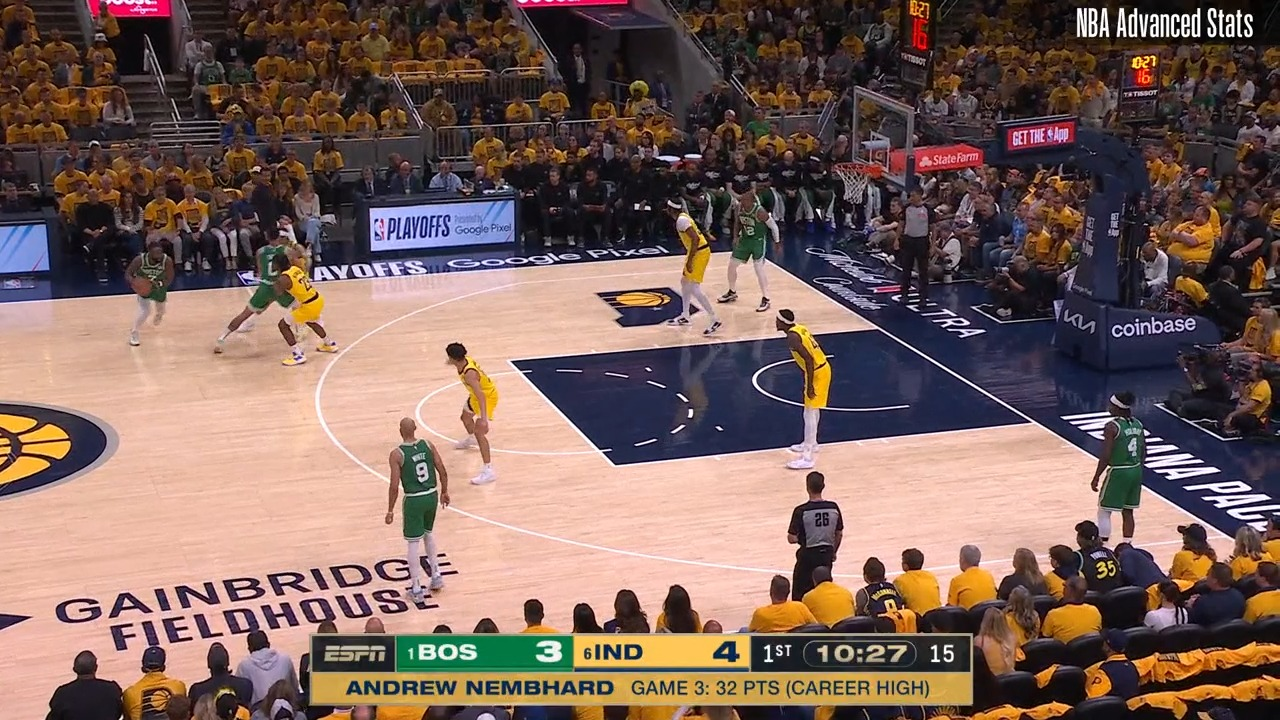basketball: (129, 271, 155, 301)
